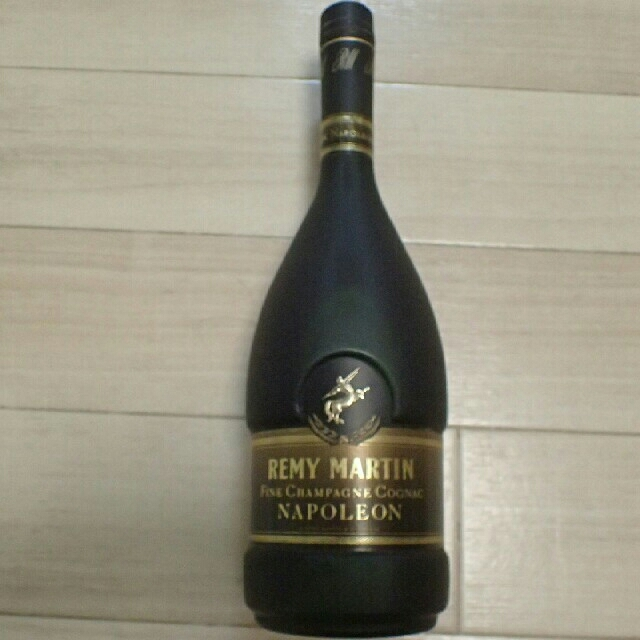Remy Martin: (223, 1, 477, 640)
